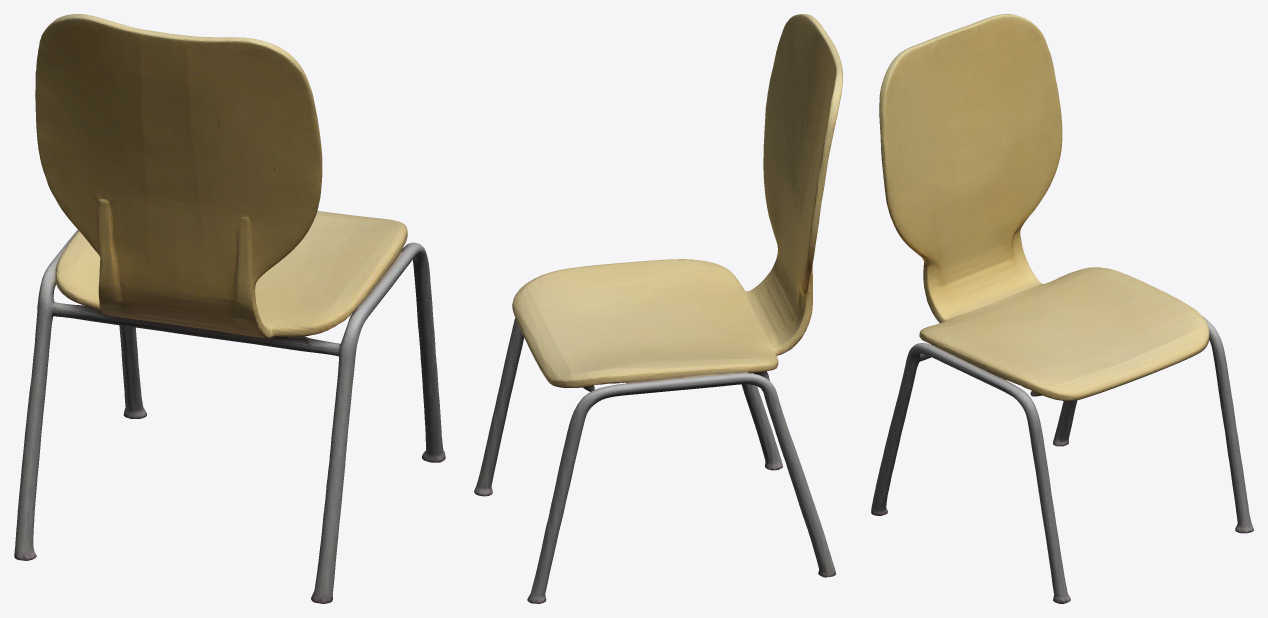
Rendered from light-colored_wooden_chair_partially_visible_on_far_right_edge_000.glb.
3 renders of one model, left to right at view 1: azimuth 30°, elevation 25°; view 2: azimuth 150°, elevation 25°; view 3: azimuth 270°, elevation 25°, orthographic. The views are drawn at different scales.
Parts seen in each view (by area): view 1: phase2_final_light-colored_wooden_chair_partially_visible_on; view 2: phase2_final_light-colored_wooden_chair_partially_visible_on; view 3: phase2_final_light-colored_wooden_chair_partially_visible_on.
Boxes of the visible parts, x1,y1,x2,y2 form: phase2_final_light-colored_wooden_chair_partially_visible_on: [14, 14, 445, 603]; phase2_final_light-colored_wooden_chair_partially_visible_on: [474, 14, 842, 603]; phase2_final_light-colored_wooden_chair_partially_visible_on: [871, 14, 1253, 603].
Size of the model in its own units: 0.2816 by 0.3545 by 0.2799.
Materials: 1 (1 with a texture image).
